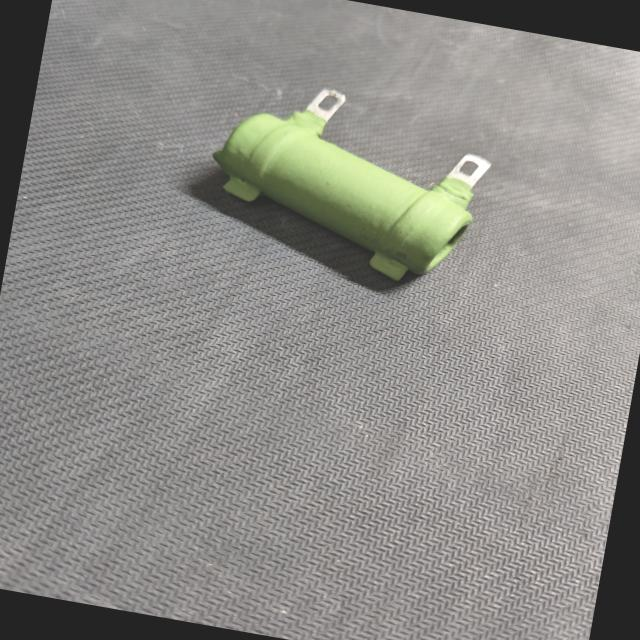resistor: (154, 47, 526, 320)
